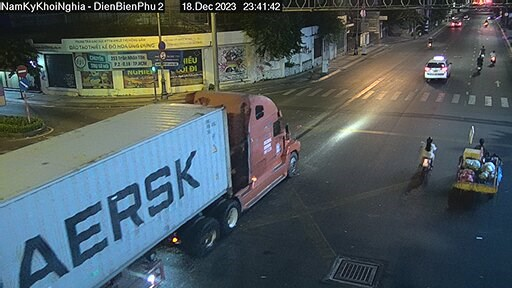car: (425, 53, 451, 82)
motorbike: (412, 135, 437, 179)
truck: (3, 94, 302, 280)
